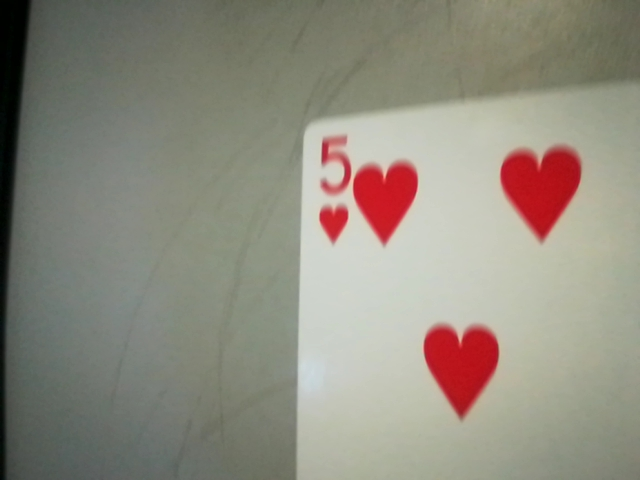hx 5: (301, 128, 357, 248)
